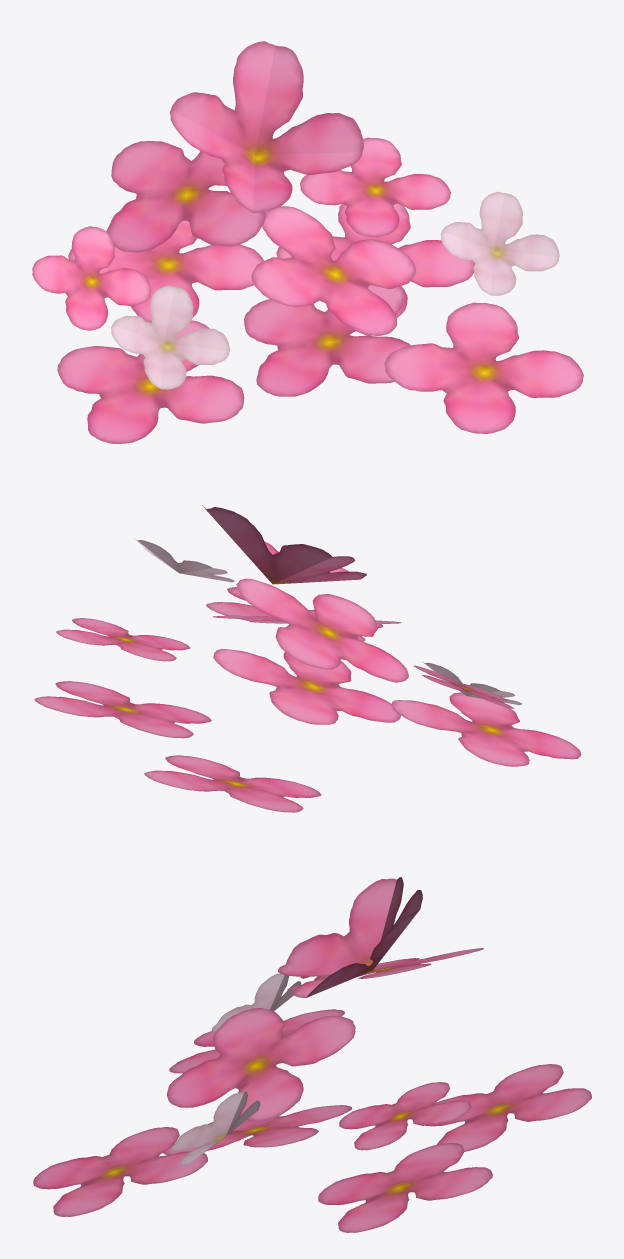
The model's file is hua01.FBX.
3 renders of one model, top to bottom at view 1: azimuth 30°, elevation 25°; view 2: azimuth 150°, elevation 25°; view 3: azimuth 270°, elevation 25°, orthographic.
Parts seen in each view (by area): view 1: hua01; view 2: hua01; view 3: hua01.
Part boxes in pixels (box(x1,y1,x2,y2)): hua01: box(32, 41, 583, 444); hua01: box(34, 505, 581, 812); hua01: box(33, 877, 591, 1232).
Bounding box in the file's own units: 3.58 × 2.02 × 3.78.
